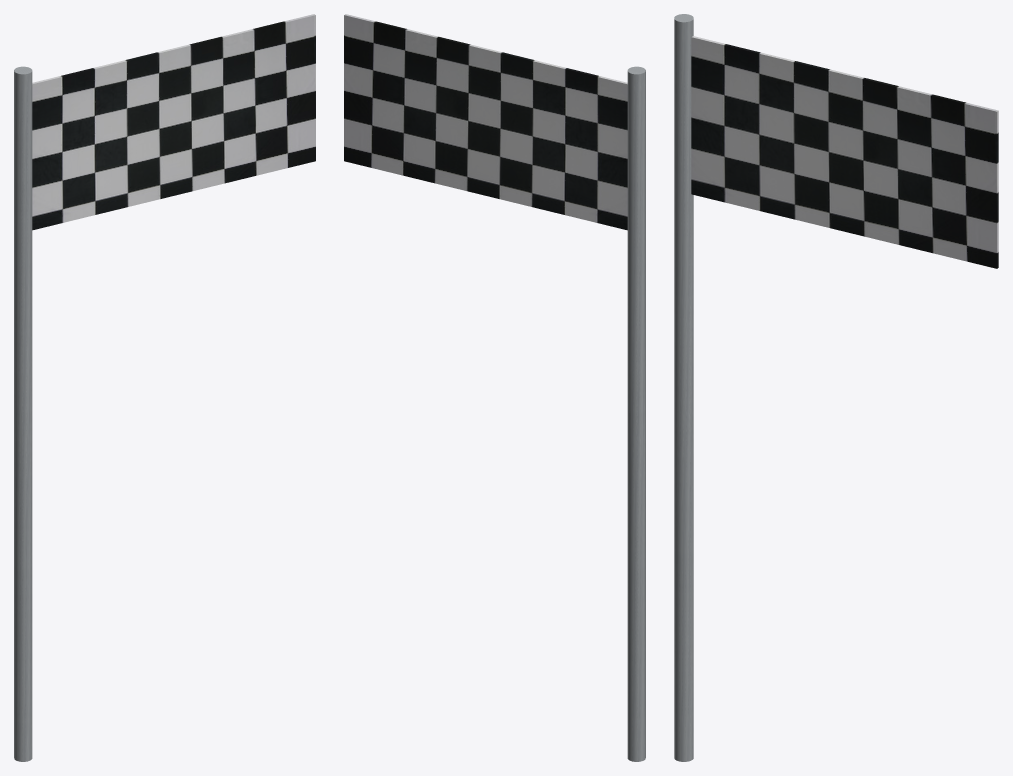
The model's file is Flag.fbx.
3 renders of one model, left to right at view 1: azimuth 30°, elevation 25°; view 2: azimuth 150°, elevation 25°; view 3: azimuth 330°, elevation 25°, orthographic. The views are drawn at different scales.
Parts seen in each view (by area): view 1: pCube1, pCylinder1; view 2: pCube1, pCylinder1; view 3: pCube1, pCylinder1.
Boxes of the visible parts, x1=… form: pCube1: x1=32, y1=14, x2=315, y2=230; pCylinder1: x1=14, y1=66, x2=32, y2=761; pCube1: x1=344, y1=14, x2=627, y2=230; pCylinder1: x1=627, y1=66, x2=645, y2=761; pCube1: x1=691, y1=36, x2=998, y2=268; pCylinder1: x1=674, y1=14, x2=693, y2=761.
Bounding box in the file's own units: 29.49 × 64.64 × 1.56.
2 materials, 2 textured.
